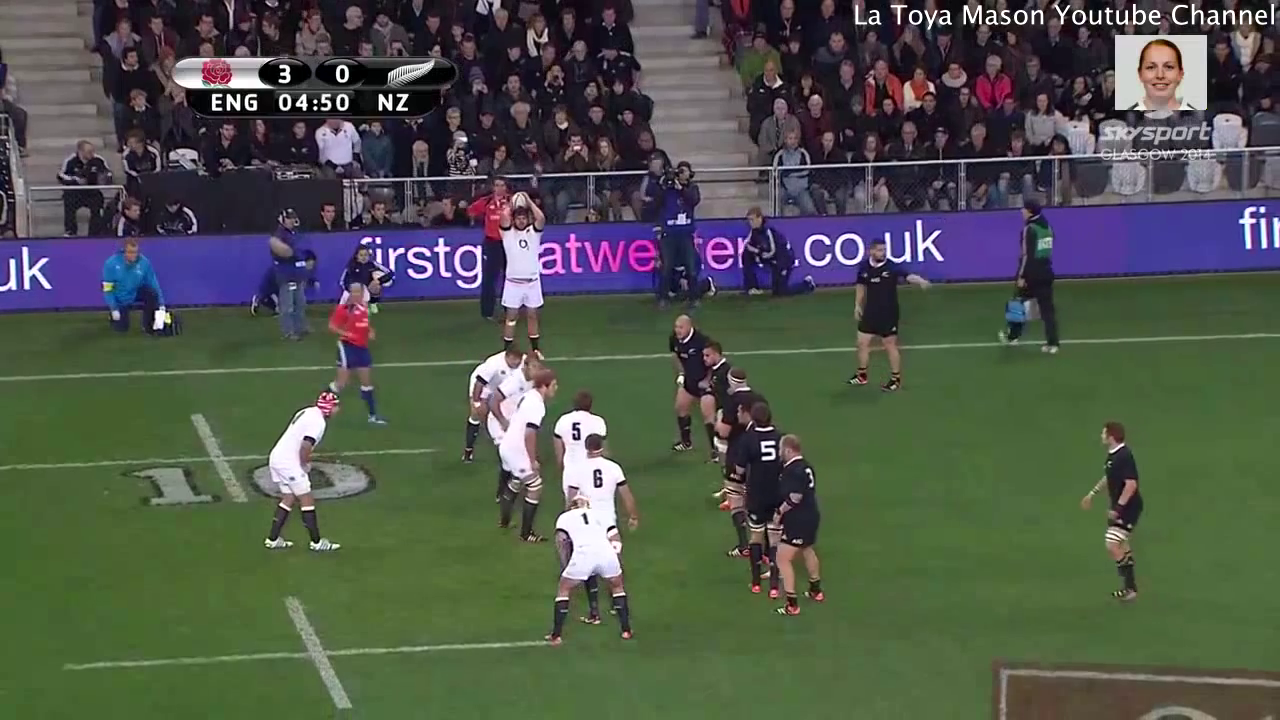10_metre: (47, 589, 543, 720), (1, 402, 451, 521)
lineout: (455, 314, 845, 651)
player: (1069, 414, 1157, 628), (537, 489, 645, 647), (253, 383, 348, 561), (842, 232, 937, 399), (764, 422, 839, 620), (724, 393, 792, 602), (485, 184, 561, 366), (483, 369, 559, 550), (316, 272, 391, 432), (564, 425, 647, 564), (456, 340, 525, 465), (658, 308, 710, 450), (548, 391, 608, 476), (711, 364, 774, 442), (693, 330, 736, 412), (489, 353, 544, 413)
